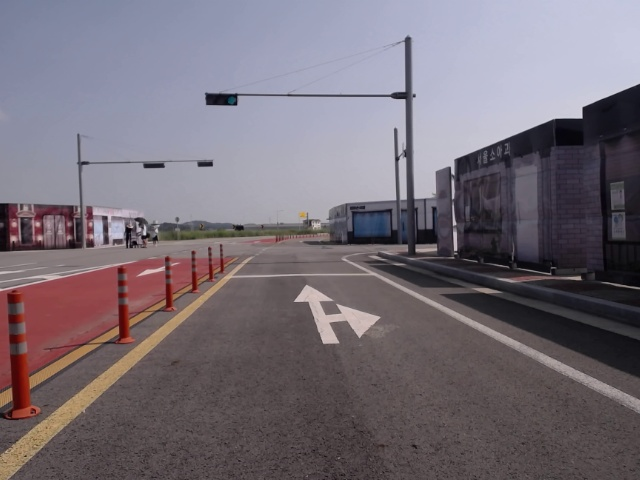green_3: (205, 93, 237, 105)
